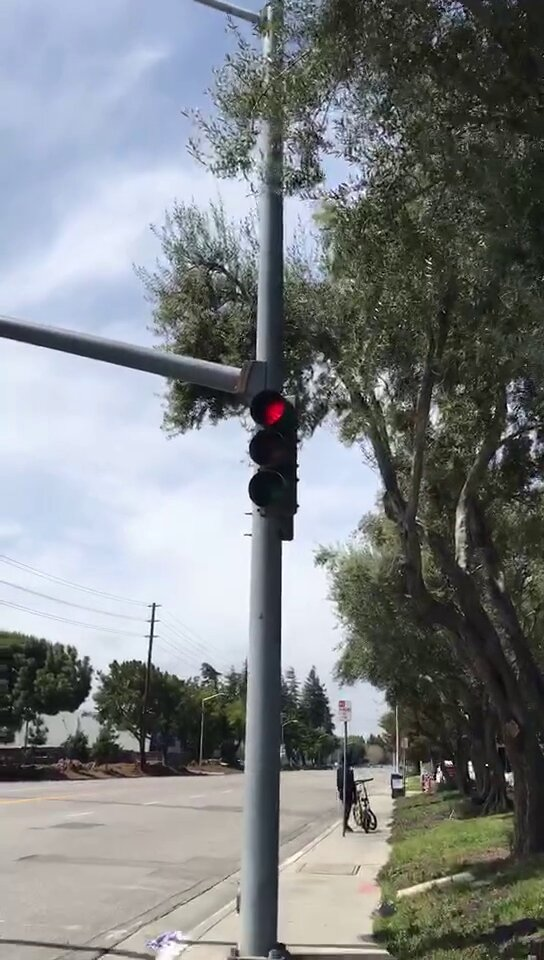red_light: (246, 390, 295, 506)
